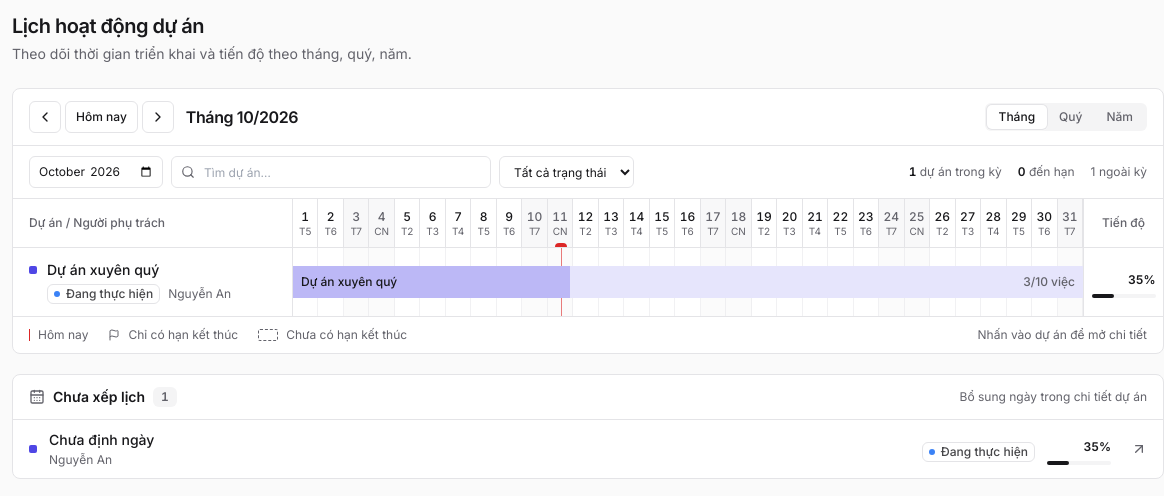
navigates periods and applies search/status to the calendar and unscheduled rows
Click the button named "Kỳ tiếp theo" at (158, 117), box [142,101,174,133]
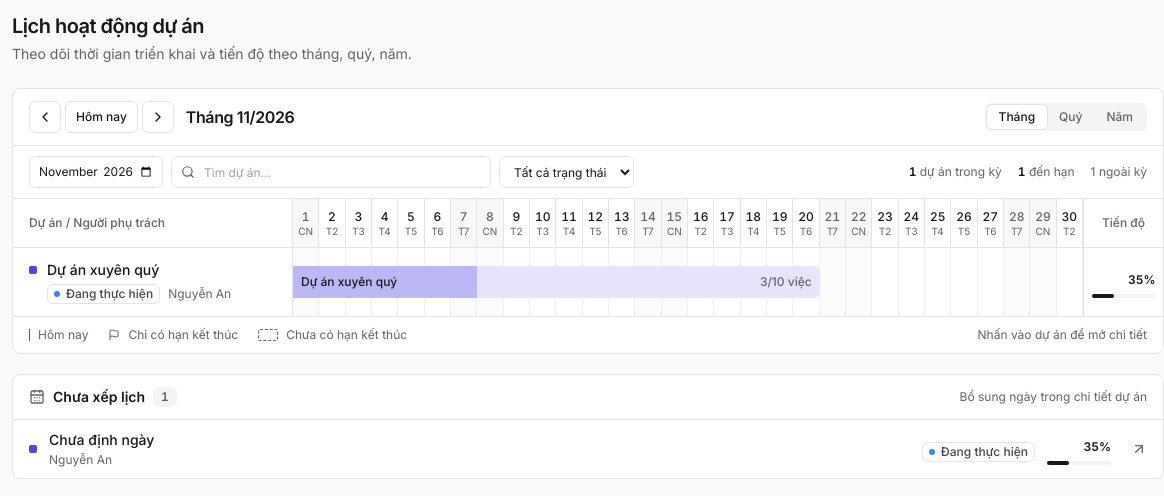
Check: the heading "Tháng 11/2026" is shown, box [186,105,294,129]
Click the button "Hôm nay" at (101, 117), box [65,101,138,133]
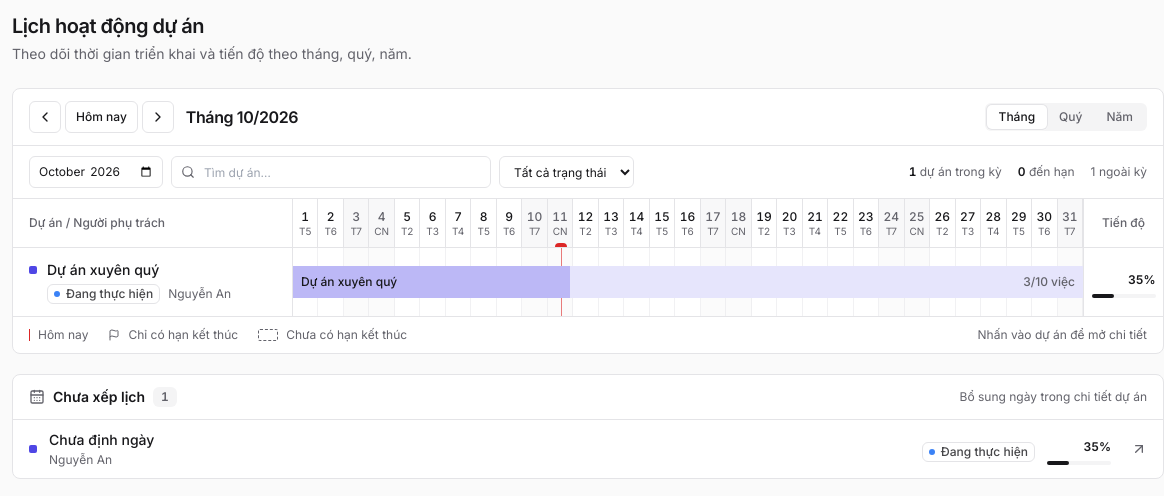
Check: the heading "Tháng 10/2026" is shown, box [186,105,298,129]
Type "tháng 12" into the field labelled "Tìm dự án" at (331, 172), box [171,156,491,188]
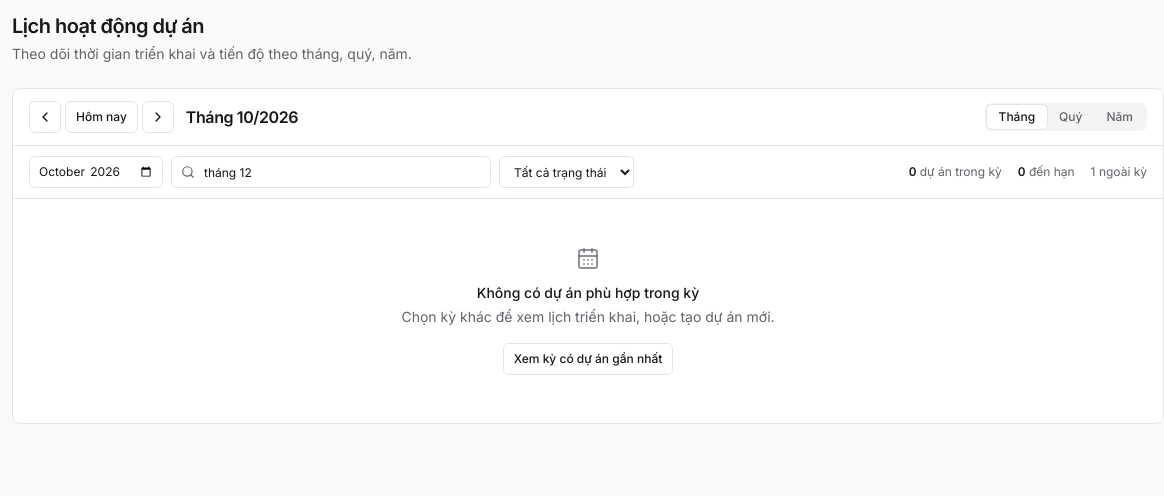
Check: the link "Chưa định ngày" is gone
Click the button "Xem kỳ có dự án gần nhất" at (588, 359), box [503,343,673,375]
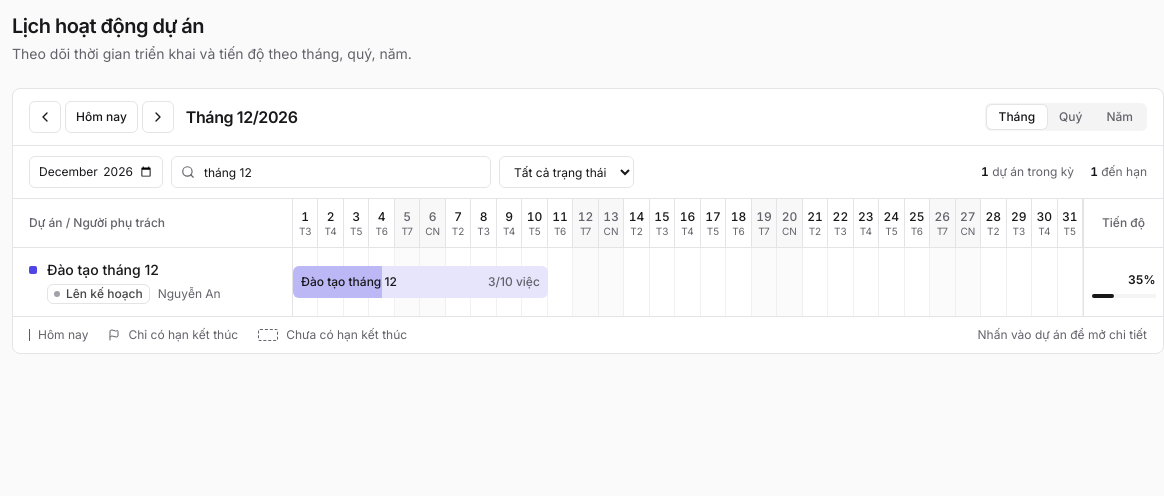
Check: the heading "Tháng 12/2026" is shown, box [186,105,298,129]
Select "Hoàn thành" in the dropdown named "Lọc trạng thái dự án" at (566, 172), box [499,156,634,188]
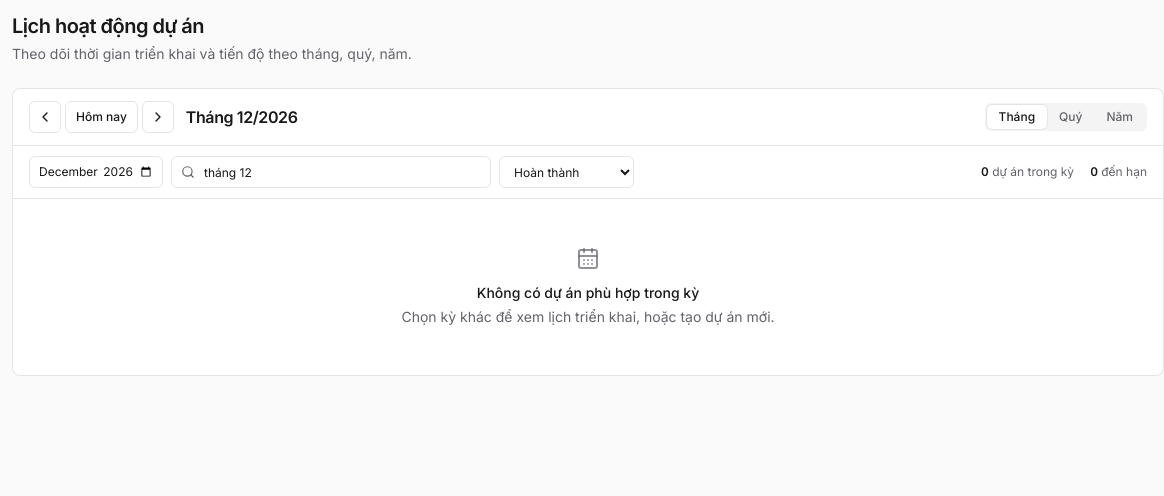
Check: the text "Không có dự án phù hợp trong kỳ" is shown, box [477,283,699,303]
